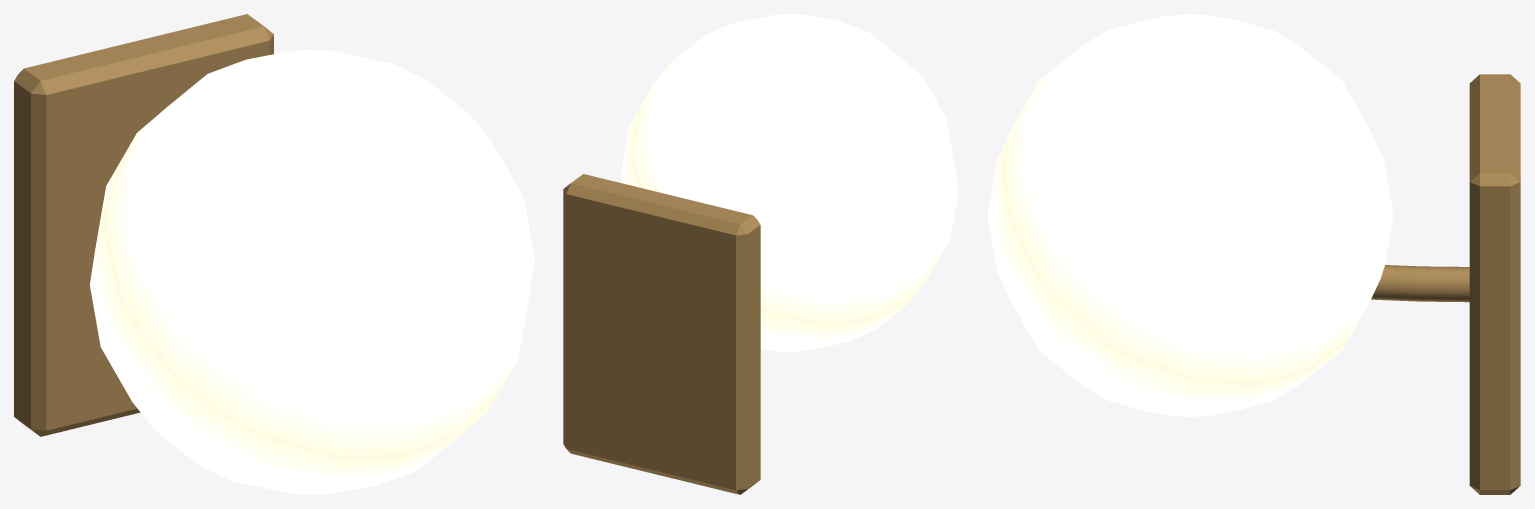
File: i_sconce_3.glb
3 renders of one model, left to right at view 1: azimuth 30°, elevation 25°; view 2: azimuth 150°, elevation 25°; view 3: azimuth 270°, elevation 25°, orthographic. The views are drawn at different scales.
Visible parts, largest first — view 1: o.001, o; view 2: o.001, o; view 3: o.001, o, o.002.
Part boxes in pixels (x1=…): o.001: x1=89, y1=50, x2=534, y2=494; o: x1=14, y1=14, x2=273, y2=436; o.001: x1=620, y1=14, x2=958, y2=351; o: x1=563, y1=174, x2=760, y2=494; o.001: x1=987, y1=14, x2=1393, y2=416; o: x1=1469, y1=74, x2=1520, y2=494; o.002: x1=1371, y1=265, x2=1469, y2=302.
Size of the model in its own units: 0.16 by 0.18 by 0.21.
